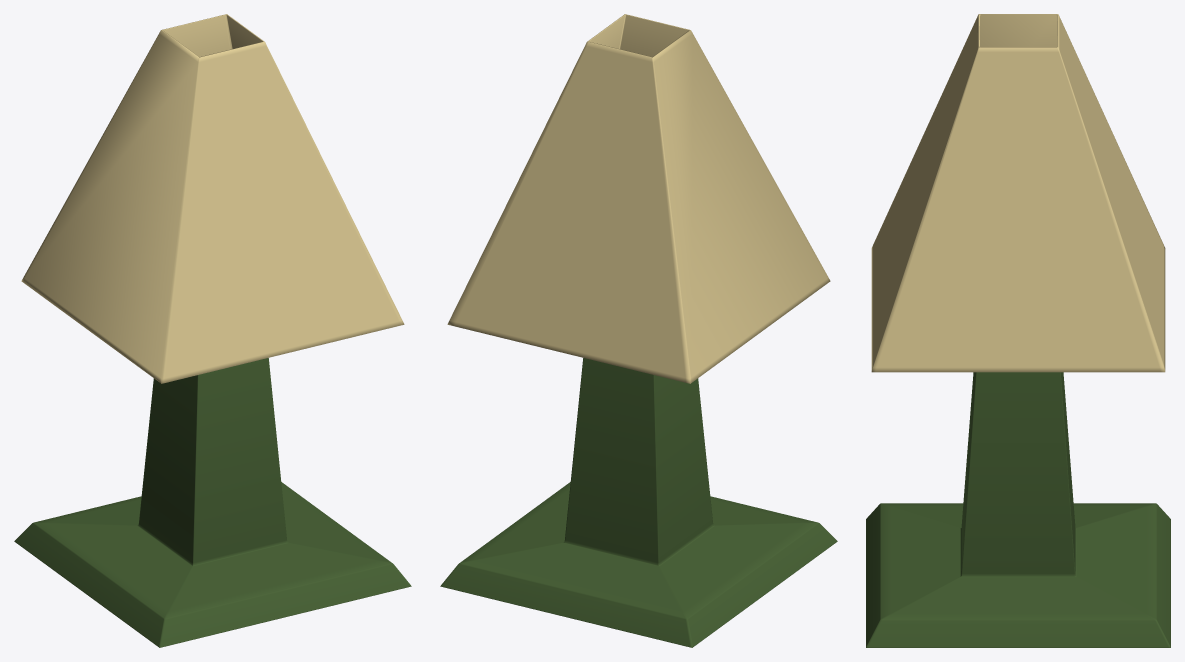
File: square_lamp.fbx
The picture shows the model from 3 angles, left to right: view 1: azimuth 30°, elevation 25°; view 2: azimuth 150°, elevation 25°; view 3: azimuth 270°, elevation 25°; orthographic projection. The views are drawn at different scales.
Visible parts, largest first — view 1: Cube; view 2: Cube; view 3: Cube.
Part boxes in pixels (x1,y1,x2,y2): Cube: (14,14,411,647); Cube: (440,14,837,647); Cube: (866,14,1170,647).
Bounding box in the file's own units: 50 × 100 × 50.
